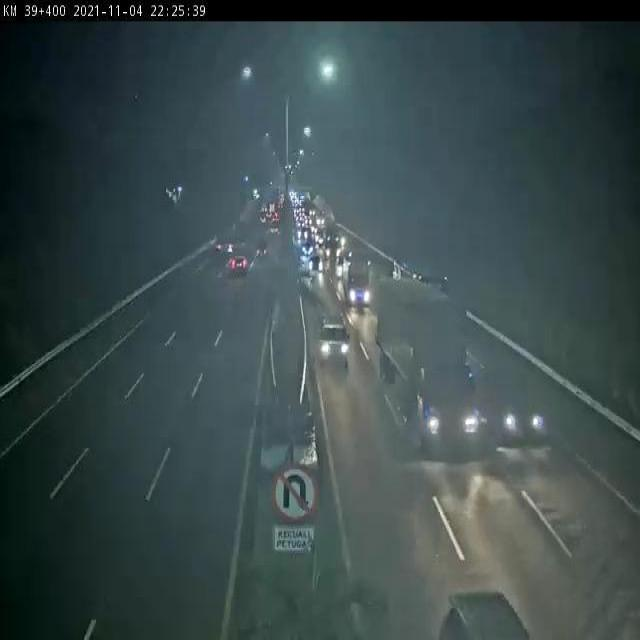car: (484, 355, 549, 449), (319, 316, 354, 375), (227, 251, 247, 277), (306, 255, 324, 273)
truck-m-: (341, 256, 373, 309)
truck-xl-: (375, 271, 484, 457)
